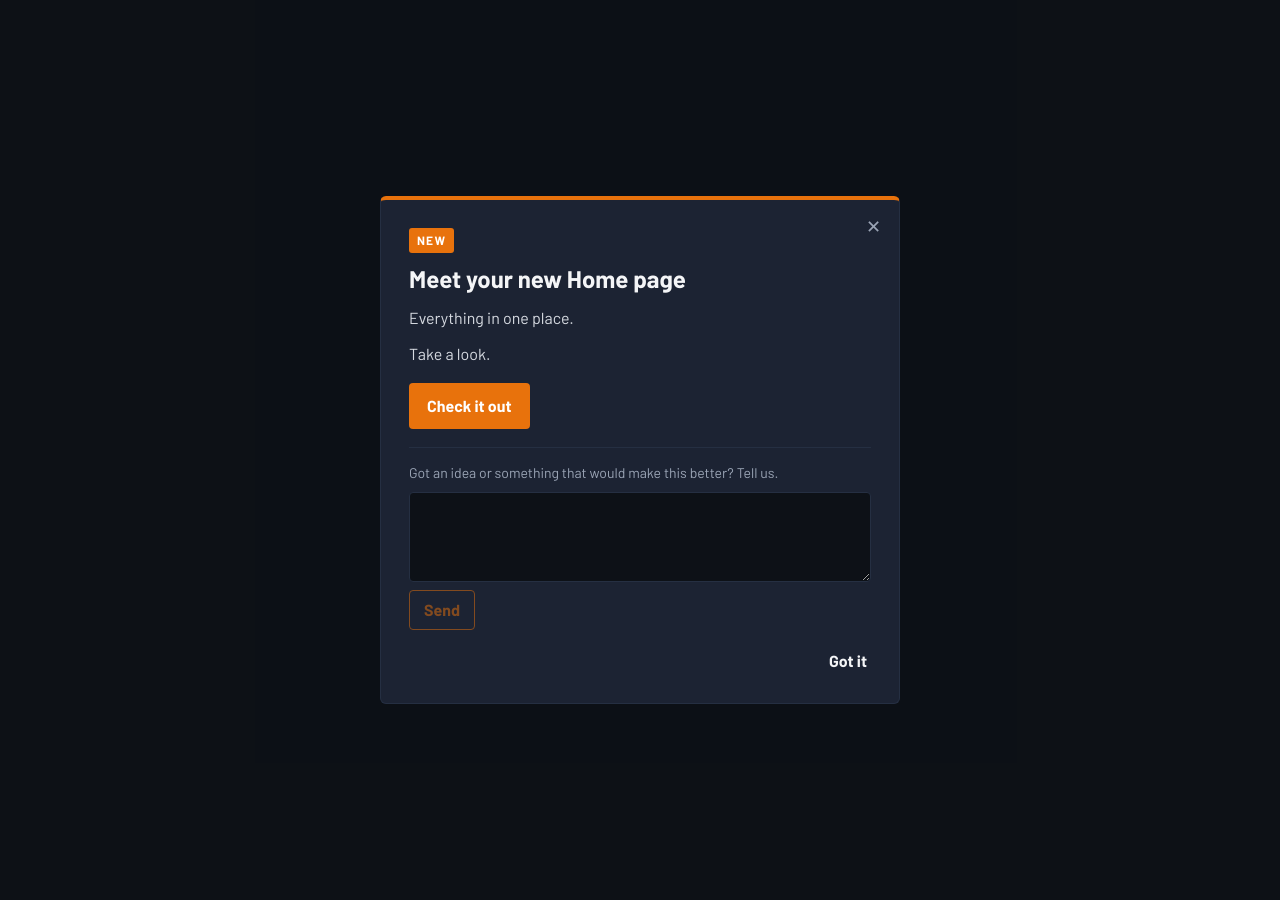
AnnouncementModal › feedback failure shows a retry message and stays open
The width and height of the screenshot is (1280, 900).
In the text box: (640, 537) top-left (409, 492), bottom-right (871, 582), type "hello"
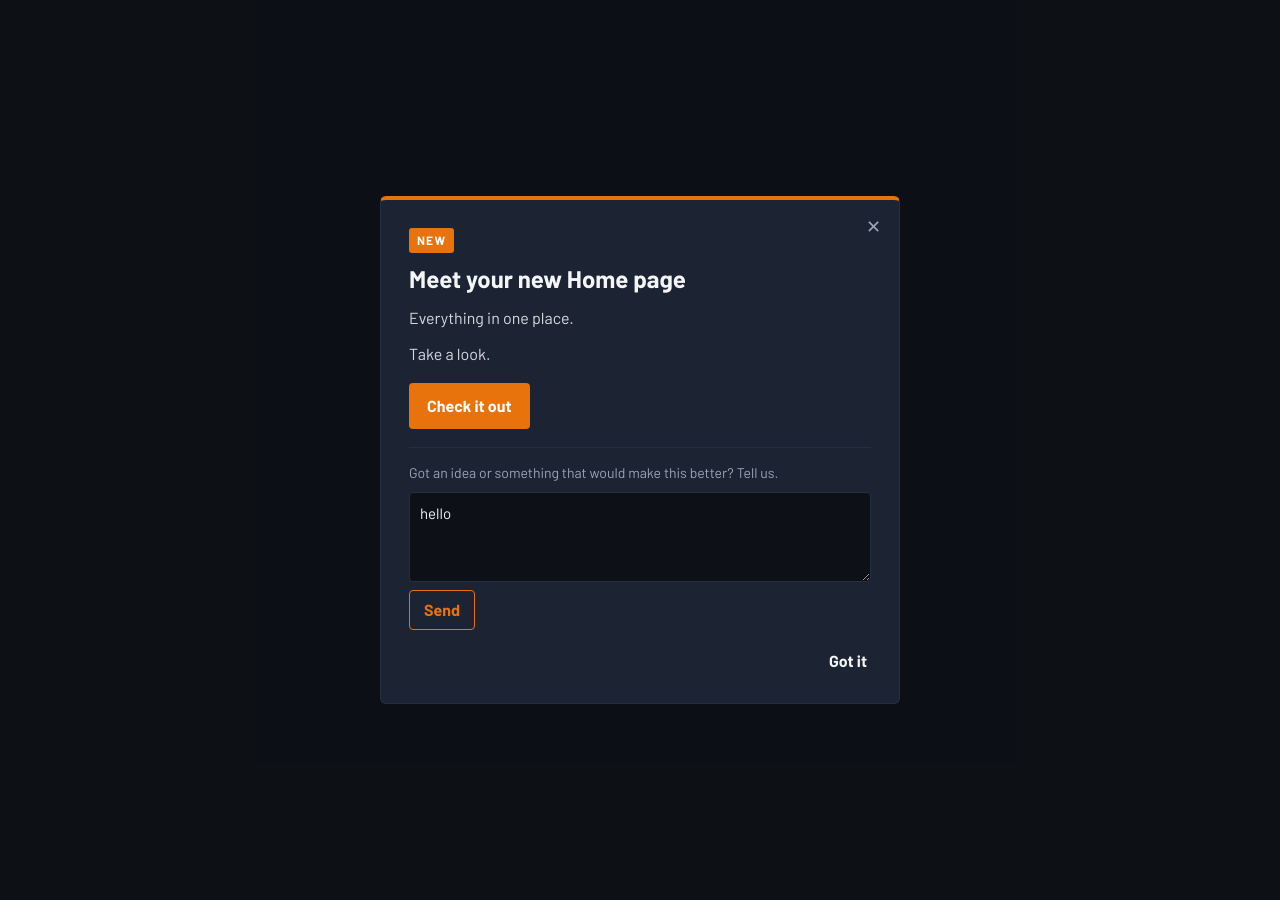
Click the button "Send": (442, 610) top-left (409, 590), bottom-right (475, 630)
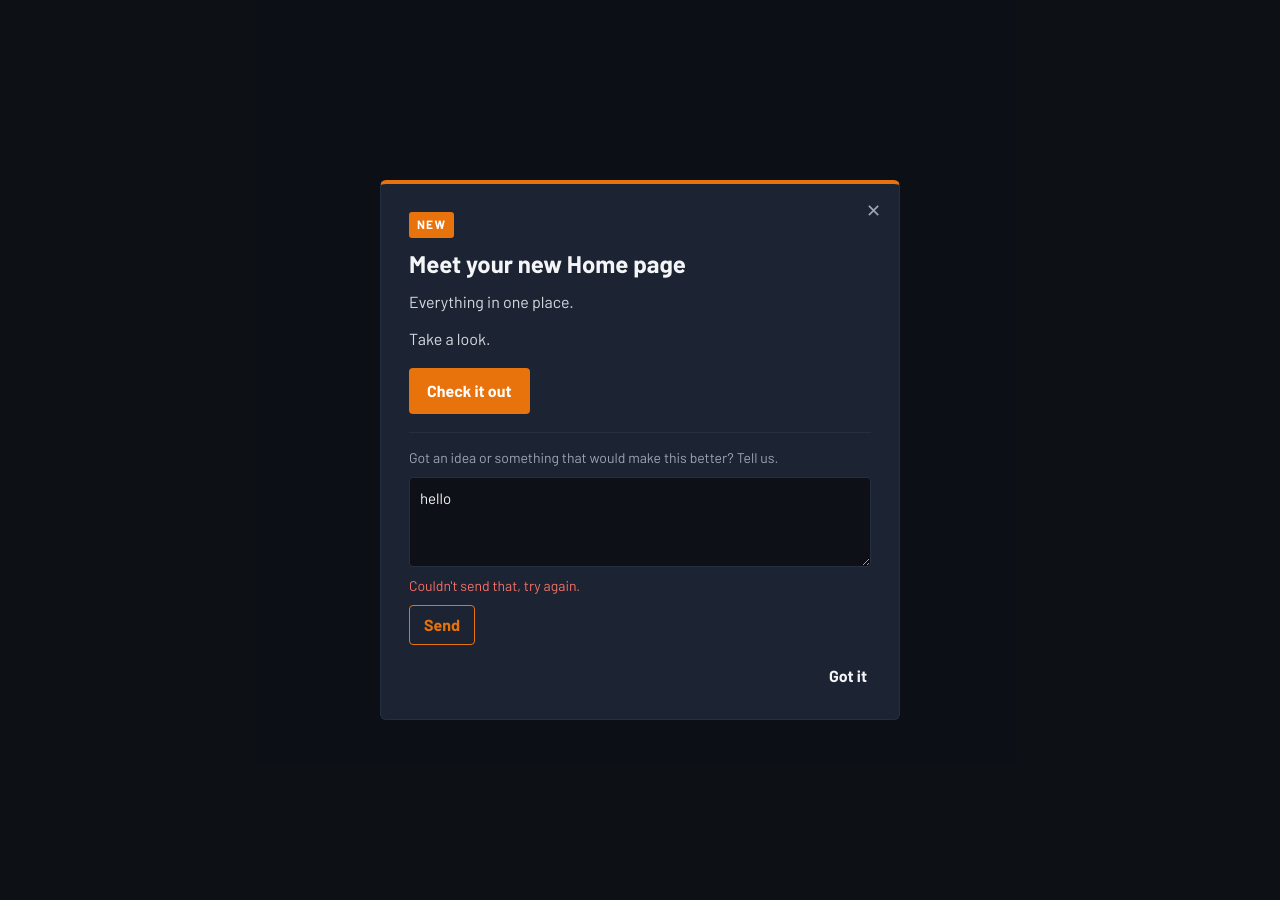
Expected: the dialog is shown, top-left (380, 180), bottom-right (900, 720)
Result: the text "Couldn't send that, try again." is shown at top-left (409, 577), bottom-right (580, 594)
